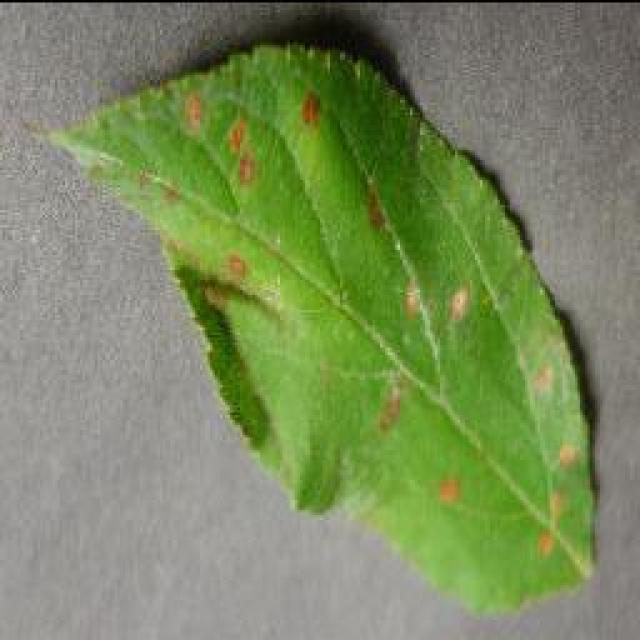apple cedar apple rust: (30, 38, 602, 618)
